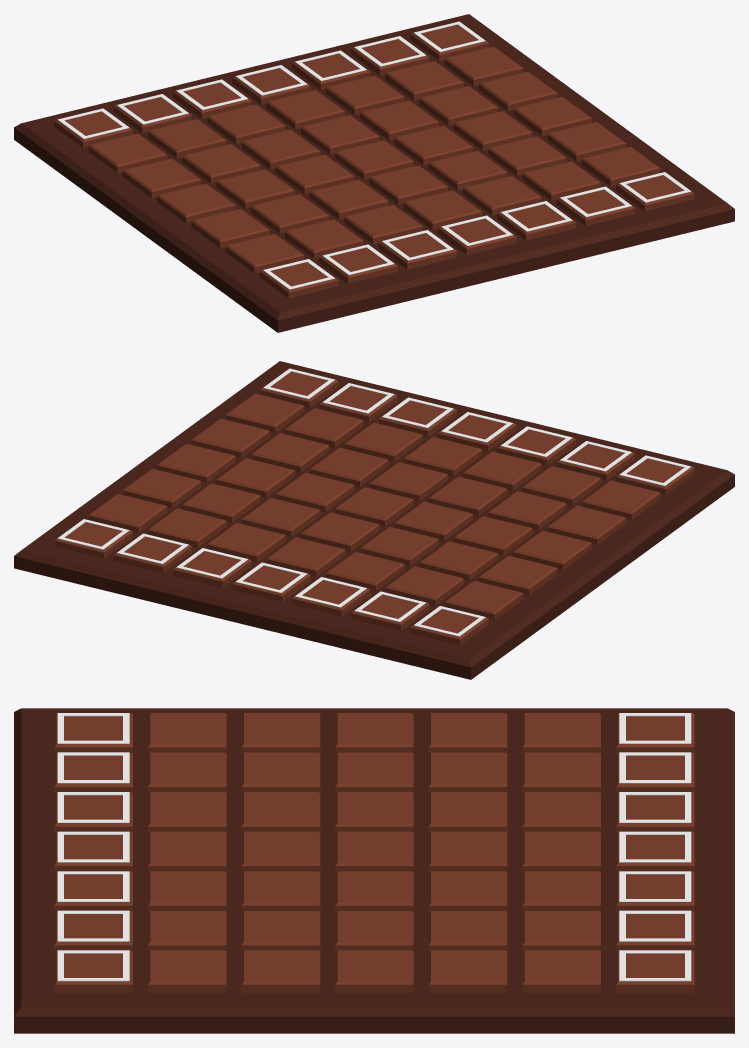
The model's file is tablero_clasico_7x7.fbx.
3 views of the same model, one above another, from view 1: azimuth 30°, elevation 25°; view 2: azimuth 150°, elevation 25°; view 3: azimuth 270°, elevation 25° (orthographic). The views are drawn at different scales.
Parts seen in each view (by area): view 1: TABLERO_CLASICO_7x7, Meta_Fila1, Meta_Fila7, Casilla_e3, Casilla_a2, Casilla_a6, Casilla_b3, Casilla_c4, Casilla_c5, Casilla_d2, Casilla_g3, Casilla_a5 (+40 smaller); view 2: TABLERO_CLASICO_7x7, Meta_Fila7, Meta_Fila1, Casilla_e5, Casilla_a2, Casilla_a6, Casilla_b5, Casilla_c3, Casilla_c4, Casilla_d6, Casilla_g5, Casilla_a3 (+40 smaller); view 3: TABLERO_CLASICO_7x7, Meta_Fila7, Meta_Fila1, Casilla_g3, Casilla_g5, Casilla_g2, Casilla_g6, Casilla_g4, Casilla_d3, Casilla_d5, Casilla_d2, Casilla_d4 (+40 smaller).
Part boxes in pixels (x1,y1,x2,y2): TABLERO_CLASICO_7x7: (14, 14, 734, 332); Meta_Fila1: (263, 172, 691, 289); Meta_Fila7: (57, 21, 485, 138); Casilla_e3: (428, 151, 507, 190); Casilla_a2: (225, 234, 304, 273); Casilla_a6: (88, 133, 167, 172); Casilla_b3: (250, 194, 329, 233); Casilla_c4: (275, 154, 354, 194); Casilla_c5: (241, 129, 320, 168); Casilla_d2: (403, 190, 482, 229); Casilla_g3: (547, 122, 626, 161); Casilla_a5: (122, 158, 201, 197); TABLERO_CLASICO_7x7: (14, 361, 734, 679); Meta_Fila7: (57, 519, 485, 636); Meta_Fila1: (263, 368, 691, 485); Casilla_e5: (241, 498, 320, 537); Casilla_a2: (581, 480, 660, 519); Casilla_a6: (444, 581, 523, 620); Casilla_b5: (419, 541, 498, 580); Casilla_c3: (428, 476, 507, 515); Casilla_c4: (394, 501, 473, 541); Casilla_d6: (266, 537, 345, 576); Casilla_g5: (122, 469, 201, 508); Casilla_a3: (547, 505, 626, 544); TABLERO_CLASICO_7x7: (14, 708, 734, 1033); Meta_Fila7: (619, 713, 691, 981); Meta_Fila1: (57, 713, 129, 981); Casilla_g3: (241, 950, 320, 992); Casilla_g5: (428, 950, 507, 992); Casilla_g2: (148, 950, 226, 992); Casilla_g6: (522, 950, 600, 992); Casilla_g4: (335, 950, 413, 992); Casilla_d3: (241, 831, 320, 871); Casilla_d5: (428, 831, 507, 871); Casilla_d2: (148, 831, 226, 872); Casilla_d4: (335, 831, 413, 871).
Bounding box in the file's own units: 770 × 40.6 × 770.
